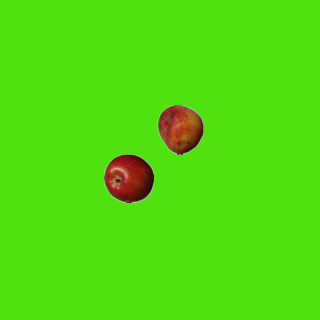Apple Braeburn: (103, 153, 153, 203)
Peach: (155, 104, 205, 154)
